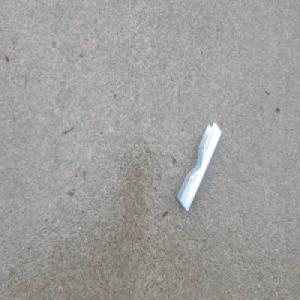ClampPart: (176, 121, 222, 212)
